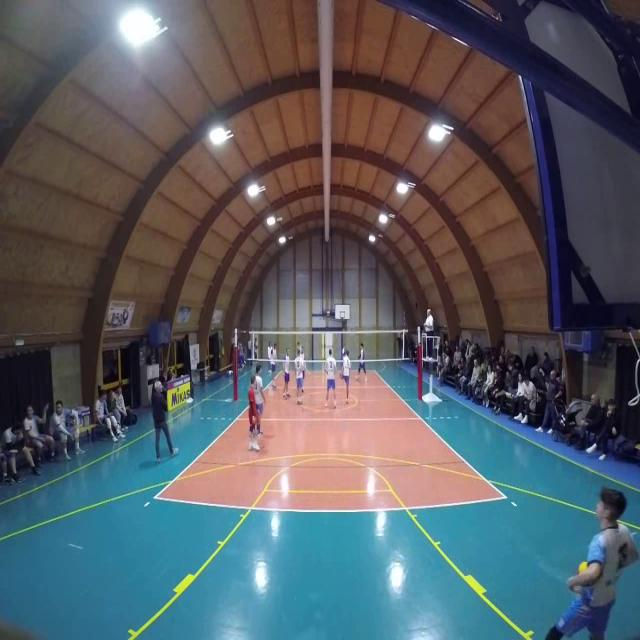Volleyball: (573, 558, 594, 592)
serve: (548, 466, 640, 640)
